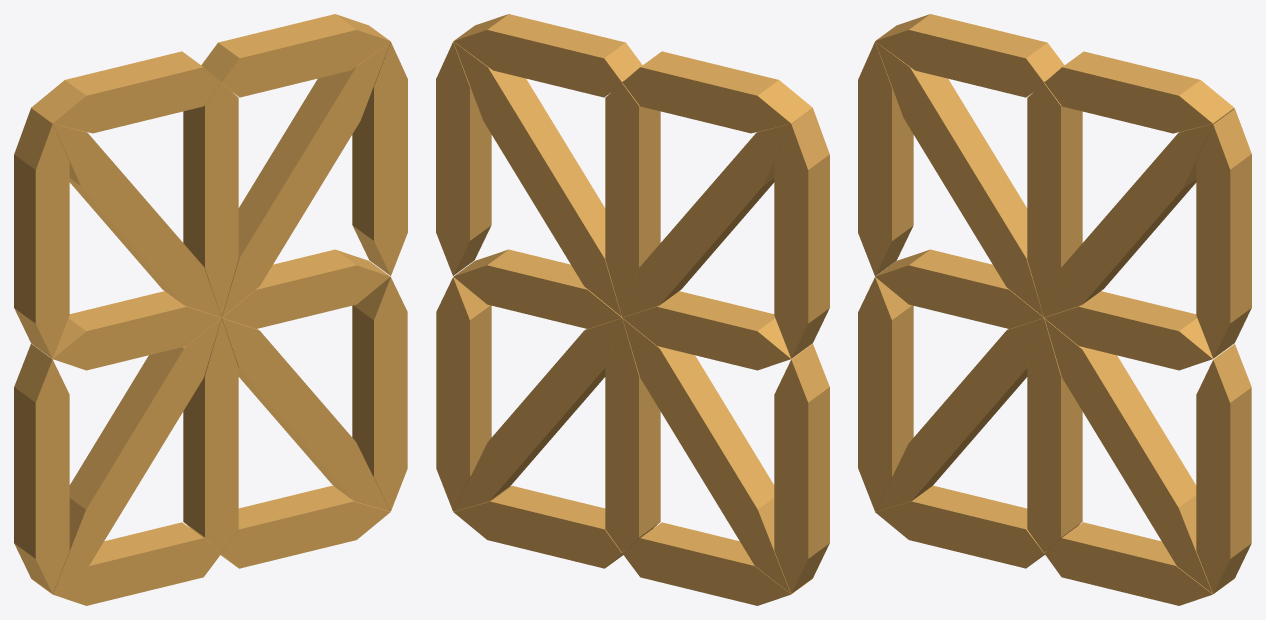
File: segmented-digit.fbx
3 renders of one model, left to right at view 1: azimuth 30°, elevation 25°; view 2: azimuth 150°, elevation 25°; view 3: azimuth 330°, elevation 25°, orthographic.
Parts seen in each view (by area): view 1: Segment.bottom.left.diag, Segment.top.right.diag, Segment.bottom.left.vert, Segment.top.left.vert, Segment.bottom.right.vert, Segment.top.center.vert, Segment.bottom.center.vert, Segment.top.right.vert, Segment.top.left.diag, Segment.bottom.right.diag, Segment.top.left.horiz, Segment.top.right.horiz (+4 smaller); view 2: Segment.bottom.left.diag, Segment.top.right.diag, Segment.bottom.left.vert, Segment.top.left.vert, Segment.bottom.right.vert, Segment.top.center.vert, Segment.bottom.center.vert, Segment.top.right.vert, Segment.top.left.diag, Segment.bottom.right.diag, Segment.top.left.horiz, Segment.top.right.horiz (+4 smaller); view 3: Segment.bottom.right.diag, Segment.top.left.diag, Segment.bottom.right.vert, Segment.top.right.vert, Segment.bottom.left.vert, Segment.top.center.vert, Segment.bottom.center.vert, Segment.top.left.vert, Segment.top.right.diag, Segment.bottom.left.diag, Segment.top.right.horiz, Segment.top.left.horiz (+4 smaller).
Part boxes in pixels (<box>): Segment.bottom.left.diag: <box>53,318,221,593</box>; Segment.top.right.diag: <box>222,41,390,316</box>; Segment.bottom.left.vert: <box>14,344,69,593</box>; Segment.top.left.vert: <box>14,108,69,358</box>; Segment.bottom.right.vert: <box>352,277,407,511</box>; Segment.top.center.vert: <box>183,83,238,317</box>; Segment.bottom.center.vert: <box>183,318,238,552</box>; Segment.top.right.vert: <box>352,42,407,275</box>; Segment.top.left.diag: <box>34,110,221,316</box>; Segment.bottom.right.diag: <box>221,317,390,511</box>; Segment.top.left.horiz: <box>31,51,221,133</box>; Segment.top.right.horiz: <box>201,14,390,97</box>; Segment.bottom.left.diag: <box>622,318,790,593</box>; Segment.top.right.diag: <box>453,41,621,316</box>; Segment.bottom.left.vert: <box>774,344,829,593</box>; Segment.top.left.vert: <box>774,108,829,358</box>; Segment.bottom.right.vert: <box>436,277,491,511</box>; Segment.top.center.vert: <box>605,83,660,317</box>; Segment.bottom.center.vert: <box>605,318,660,552</box>; Segment.top.right.vert: <box>436,42,491,275</box>; Segment.top.left.diag: <box>622,110,809,316</box>; Segment.bottom.right.diag: <box>453,317,622,511</box>; Segment.top.left.horiz: <box>622,51,812,133</box>; Segment.top.right.horiz: <box>453,14,642,97</box>; Segment.bottom.right.diag: <box>1045,319,1212,593</box>; Segment.top.left.diag: <box>875,41,1043,316</box>; Segment.bottom.right.vert: <box>1196,344,1251,593</box>; Segment.top.right.vert: <box>1196,109,1251,358</box>; Segment.bottom.left.vert: <box>858,277,913,511</box>; Segment.top.center.vert: <box>1027,83,1082,317</box>; Segment.bottom.center.vert: <box>1027,318,1082,552</box>; Segment.top.left.vert: <box>858,41,913,276</box>; Segment.top.right.diag: <box>1044,108,1234,316</box>; Segment.bottom.left.diag: <box>875,317,1045,511</box>; Segment.top.right.horiz: <box>1044,51,1234,133</box>; Segment.top.left.horiz: <box>875,14,1064,97</box>.
Bounding box in the file's own units: 0.9921 × 1.3 × 0.1.
